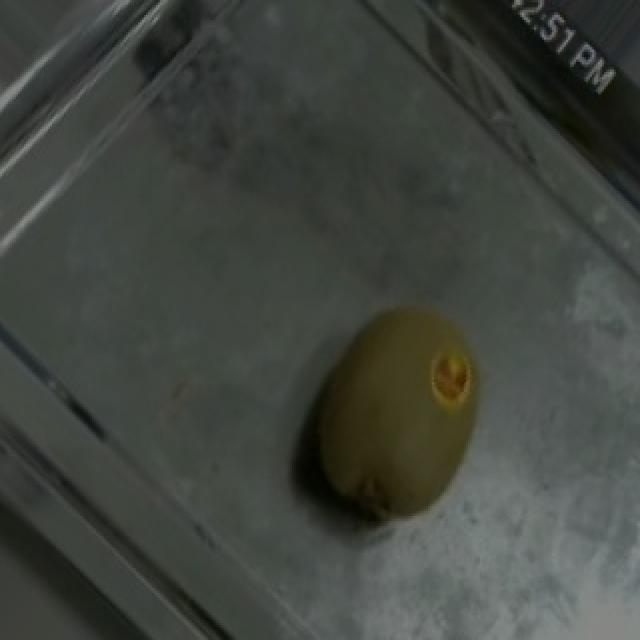Fruit: (264, 268, 520, 553)
